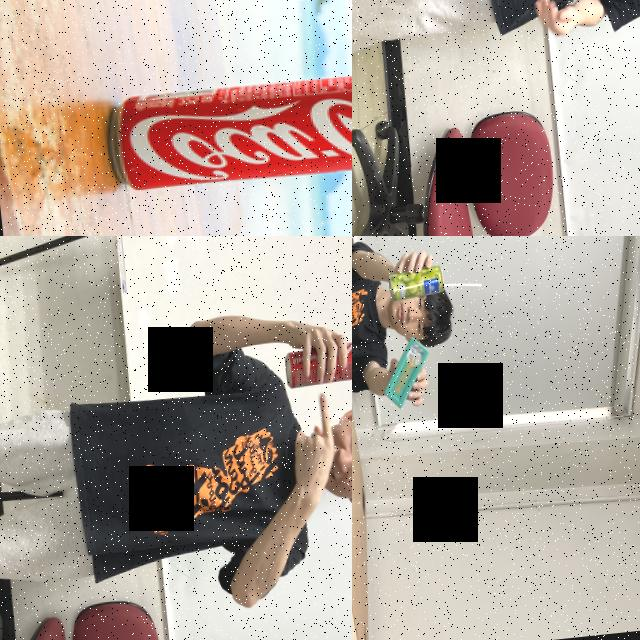can: (100, 58, 352, 197), (281, 339, 352, 389), (386, 264, 444, 302)
